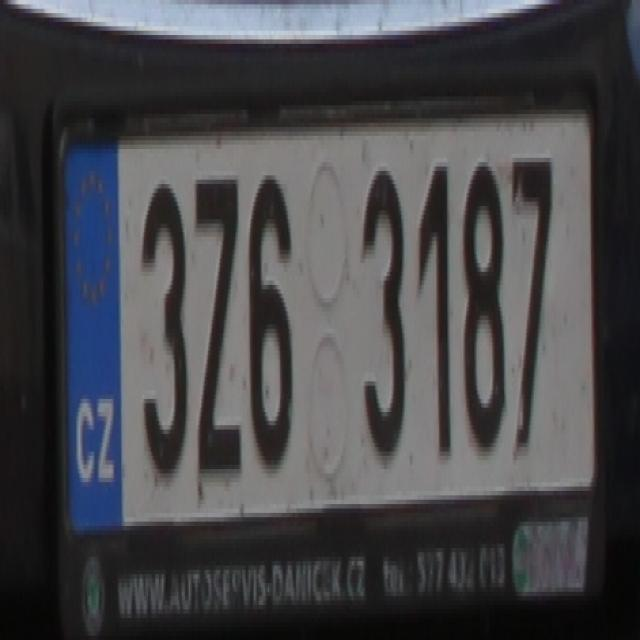1: (416, 158, 455, 464)
3: (138, 184, 188, 478), (360, 166, 408, 452)
6: (243, 171, 295, 465)
7: (511, 149, 554, 452)
8: (456, 145, 511, 456)
Z: (191, 171, 242, 478)
